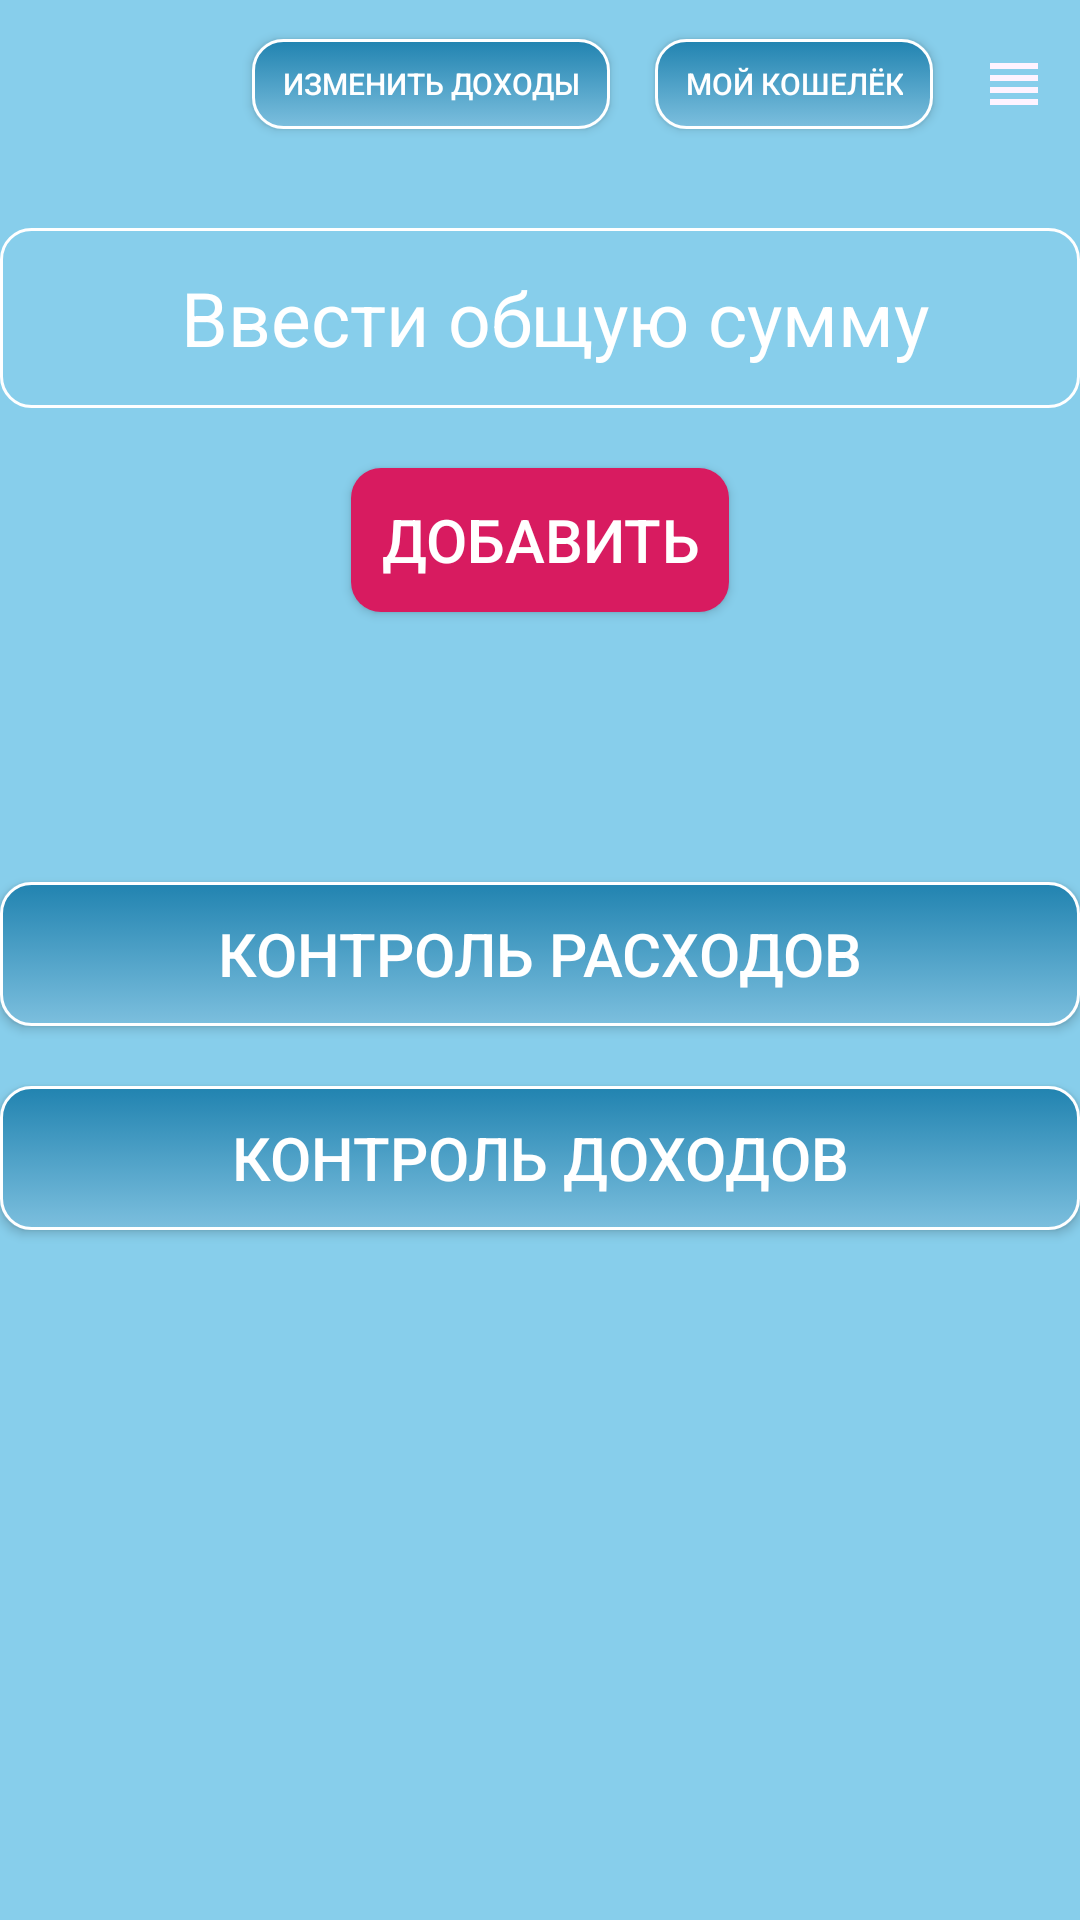

Icon bounding boxes for this 1080w x 1920h phone screenshot, format (x1, y1, x2, y2):
view headline: (990, 63, 1038, 105)
